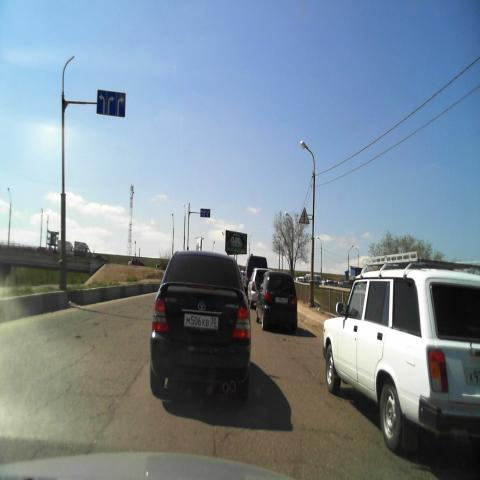2_3_3: (298, 206, 310, 224)
5_15_1: (96, 89, 126, 118)
